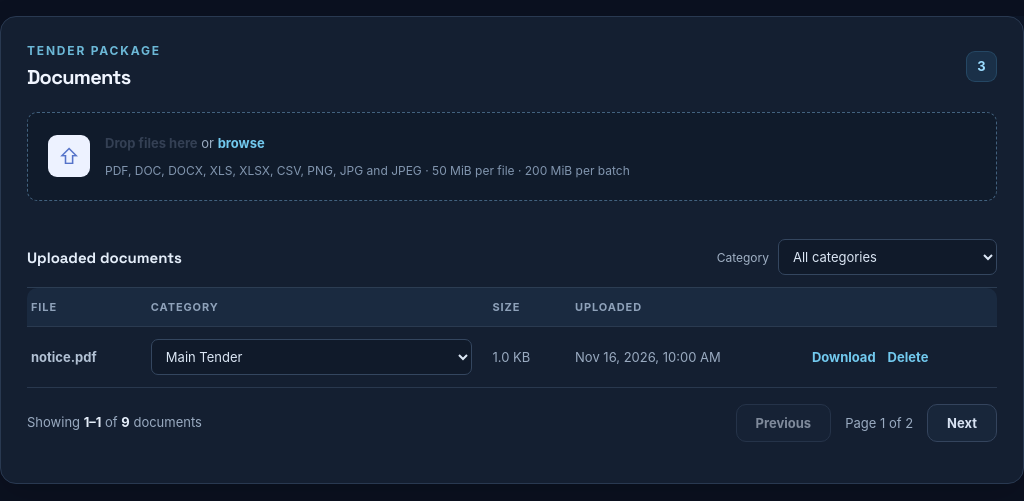
tender document management › paginates document results
Check: the text "notice.pdf" is shown, box [31,349,97,365]
Click the button "Next" at (962, 422), box [927,404,997,442]
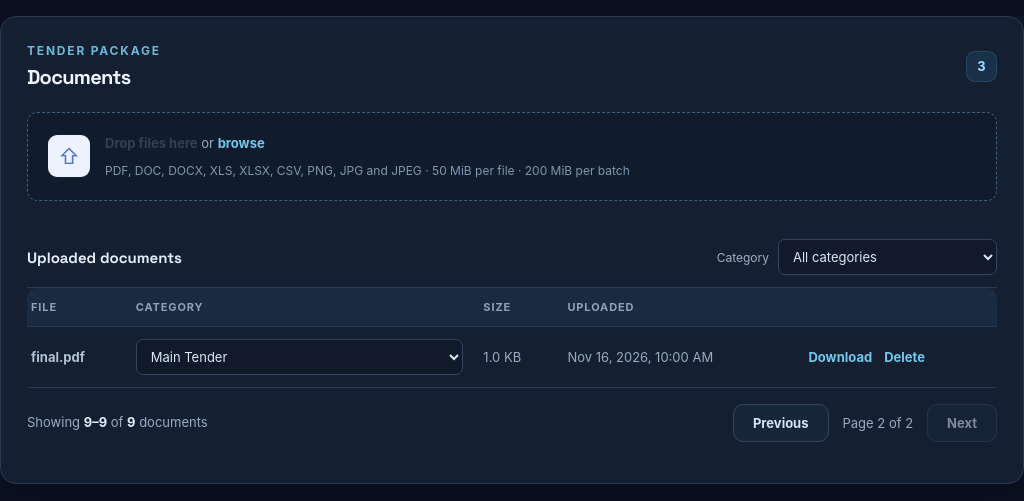
Check: the text "final.pdf" is shown, box [31,349,85,365]
